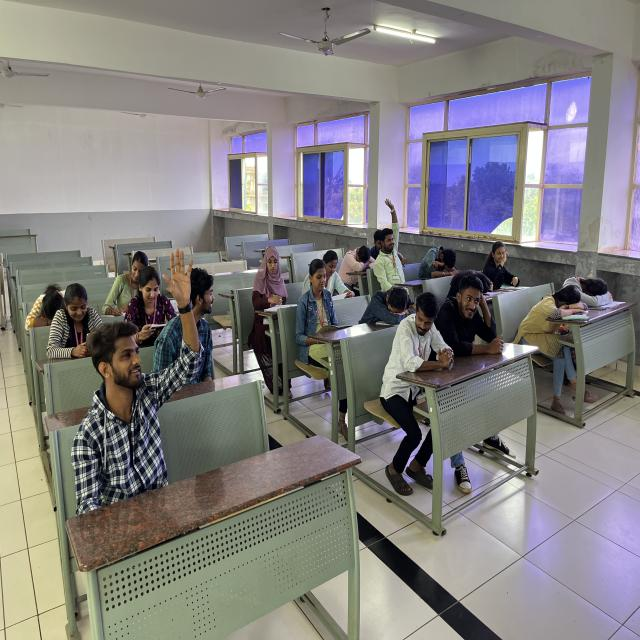Hand Rising: (81, 238, 201, 474), (374, 195, 408, 286)
Reading: (298, 256, 357, 347), (122, 265, 181, 345)
Sleeping: (514, 281, 591, 344), (359, 284, 421, 332), (561, 268, 618, 312), (415, 242, 464, 283), (337, 242, 380, 282)
Using Phone: (43, 279, 116, 369)
Writing: (252, 243, 298, 323)
